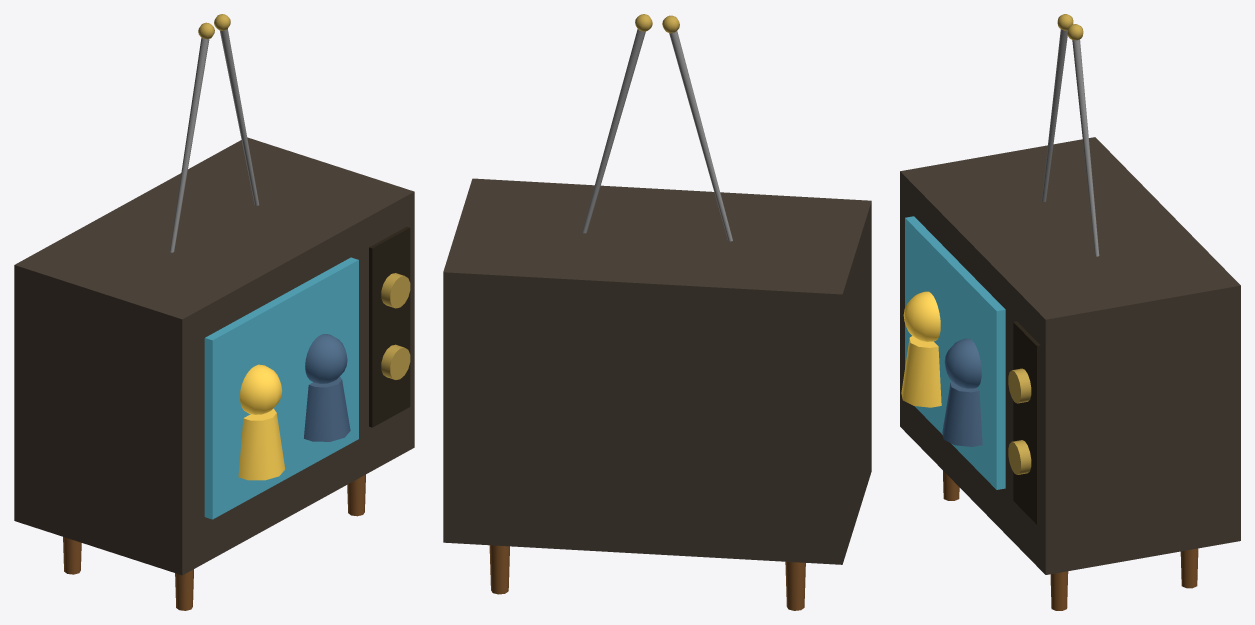
Rendered from television.glb.
3 views of the same model, side by side, from view 1: azimuth 30°, elevation 25°; view 2: azimuth 150°, elevation 25°; view 3: azimuth 270°, elevation 25° (orthographic). The views are drawn at different scales.
Size of the model in its own units: 1.53 by 2.04 by 1.21.
